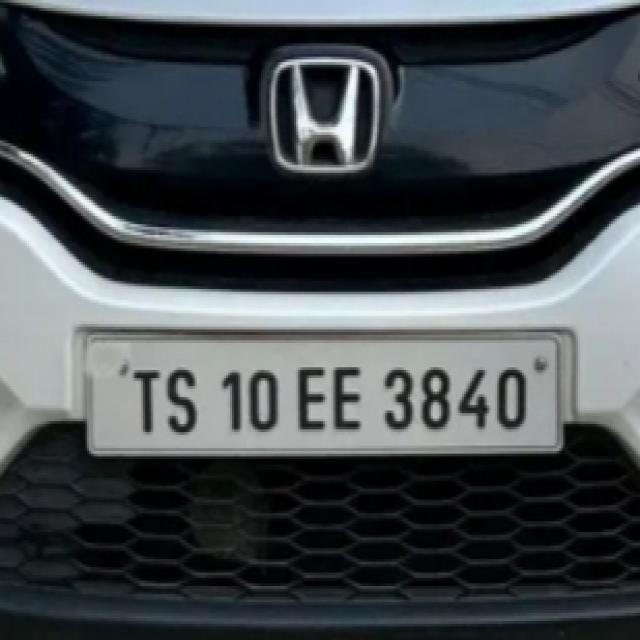0: (493, 357, 532, 437), (246, 361, 280, 441)
1: (218, 358, 244, 438)
3: (378, 356, 416, 436)
4: (454, 353, 497, 436)
8: (416, 358, 456, 438)
E: (331, 360, 366, 443), (296, 364, 330, 436)
S: (164, 357, 202, 444)
T: (126, 360, 166, 443)
